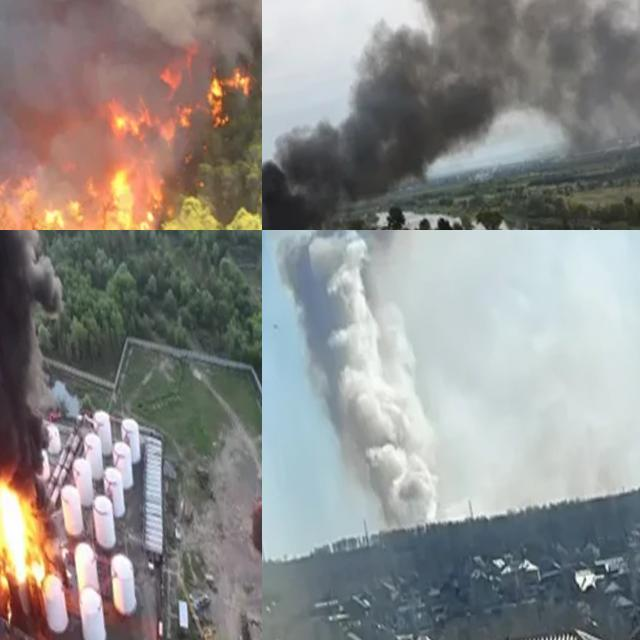smoke: (262, 0, 546, 230), (0, 0, 262, 230), (270, 230, 474, 524), (0, 230, 102, 541)
